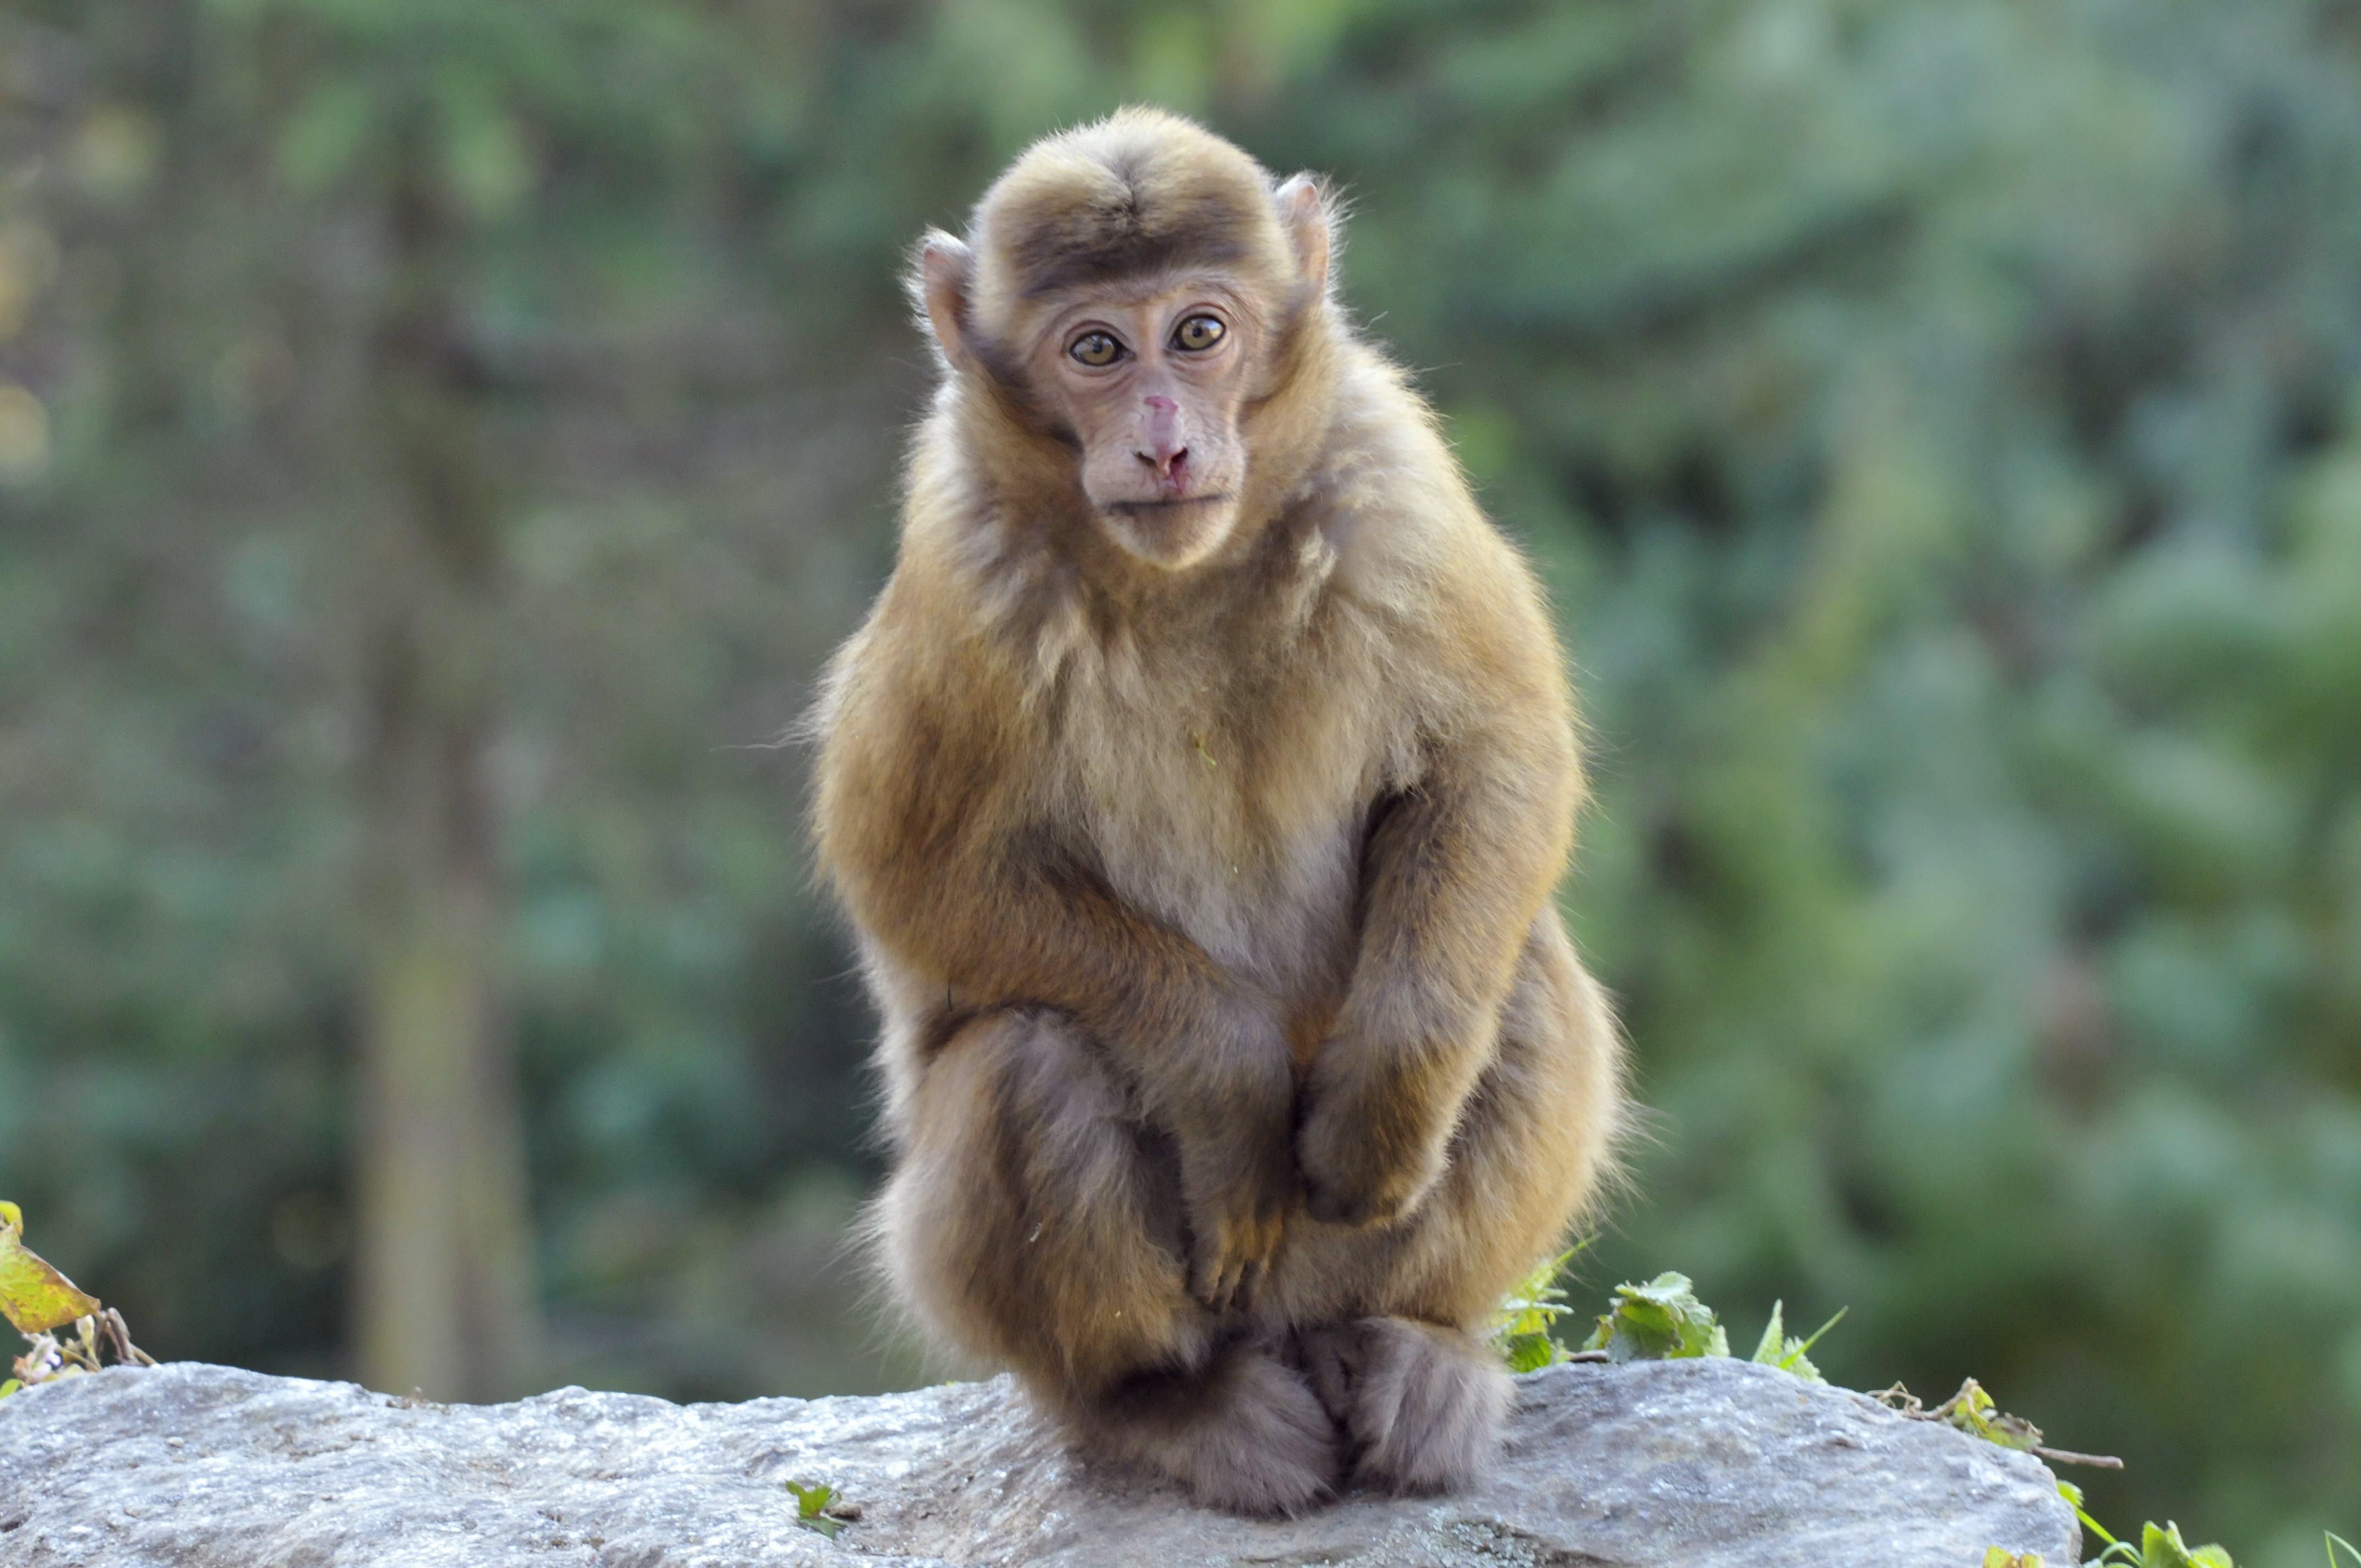monkey: (819, 87, 1598, 1496)
